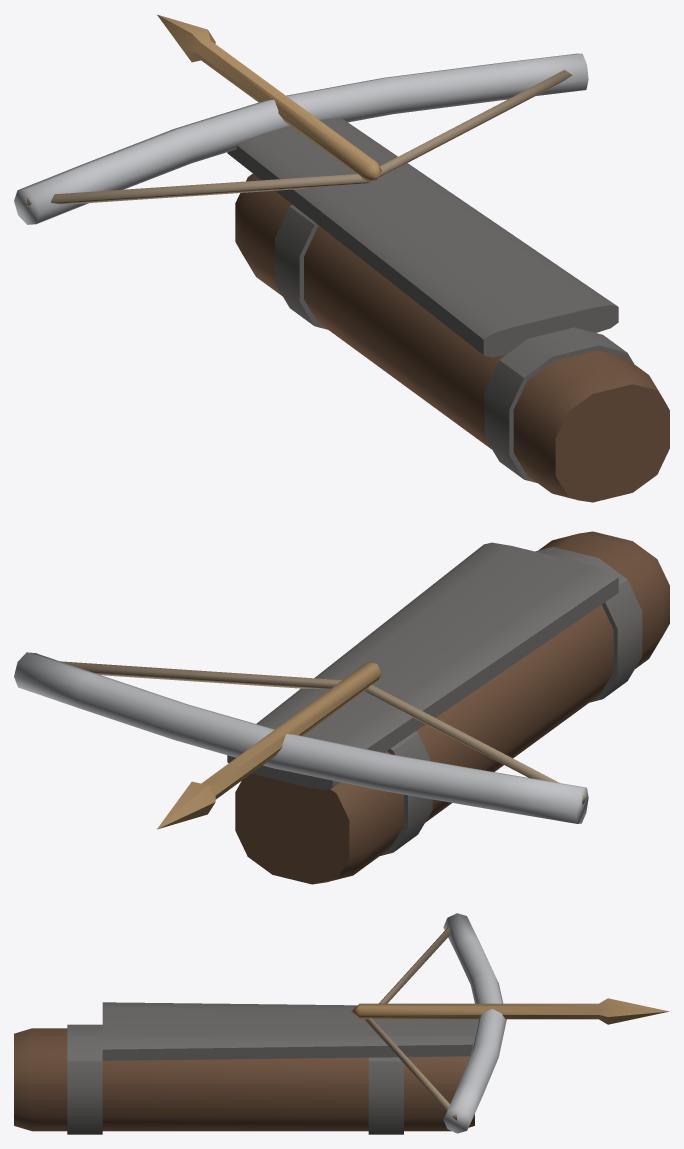
File: heavy-wrist-launcher.glb
The picture shows the model from 3 angles, top to bottom: view 1: azimuth 30°, elevation 25°; view 2: azimuth 150°, elevation 25°; view 3: azimuth 270°, elevation 25°; orthographic projection. The views are drawn at different scales.
Visible parts, largest first — view 1: heavy-wrist-launcher; view 2: heavy-wrist-launcher; view 3: heavy-wrist-launcher.
Boxes of the visible parts, x1,y1,x2,y2 form: heavy-wrist-launcher: [14, 14, 669, 502]; heavy-wrist-launcher: [14, 531, 669, 884]; heavy-wrist-launcher: [14, 913, 669, 1134].
Bounding box in the file's own units: 0.5262 × 0.1563 × 0.74.
